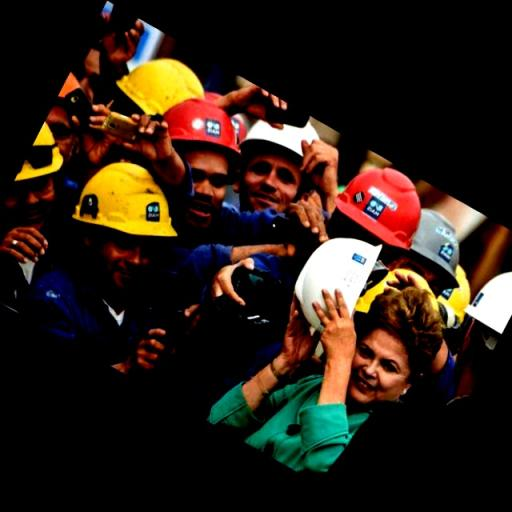Person: (224, 273, 432, 492), (52, 170, 173, 376), (332, 154, 460, 295), (1, 108, 73, 280), (153, 98, 232, 242), (235, 102, 315, 212)
helmet: (296, 219, 385, 345), (64, 159, 190, 246), (316, 162, 441, 248), (398, 203, 466, 290), (112, 53, 202, 110), (238, 104, 326, 161), (156, 102, 244, 158), (420, 252, 470, 340), (472, 260, 512, 346), (18, 122, 72, 180)
